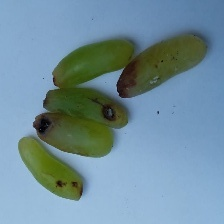grapes: (41, 2, 177, 200)
